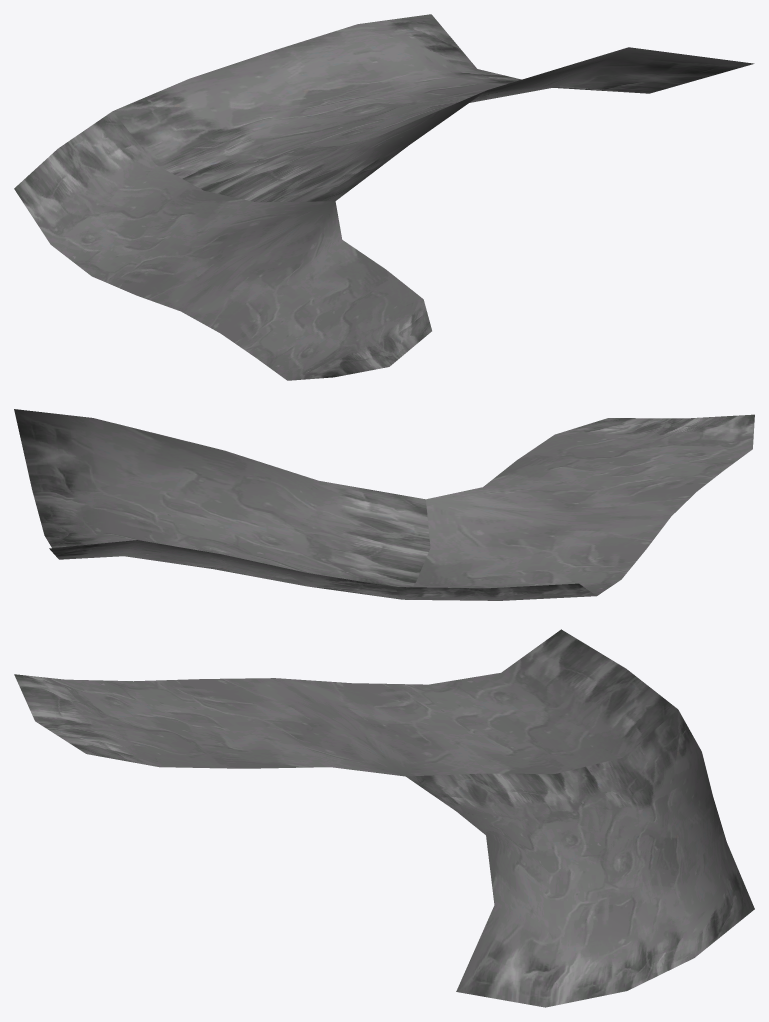
The model's file is SWORDLIGHT20_PS-AREA03_142.fbx.
3 views of the same model, one above another, from view 1: azimuth 30°, elevation 25°; view 2: azimuth 150°, elevation 25°; view 3: azimuth 270°, elevation 25° (orthographic). The views are drawn at different scales.
Parts seen in each view (by area): view 1: SWORDLIGHT20_PS-AREA03_142; view 2: SWORDLIGHT20_PS-AREA03_142; view 3: SWORDLIGHT20_PS-AREA03_142.
Boxes of the visible parts, x1,y1,x2,y2 form: SWORDLIGHT20_PS-AREA03_142: (14,14,754,380); SWORDLIGHT20_PS-AREA03_142: (14,409,754,600); SWORDLIGHT20_PS-AREA03_142: (14,629,754,1007).
Size of the model in its own units: 147114 by 17336 by 129744.
Materials: 3 (3 with a texture image).
